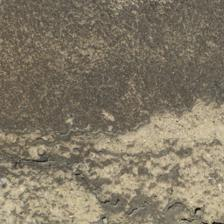Crack: (11, 79, 193, 138)
